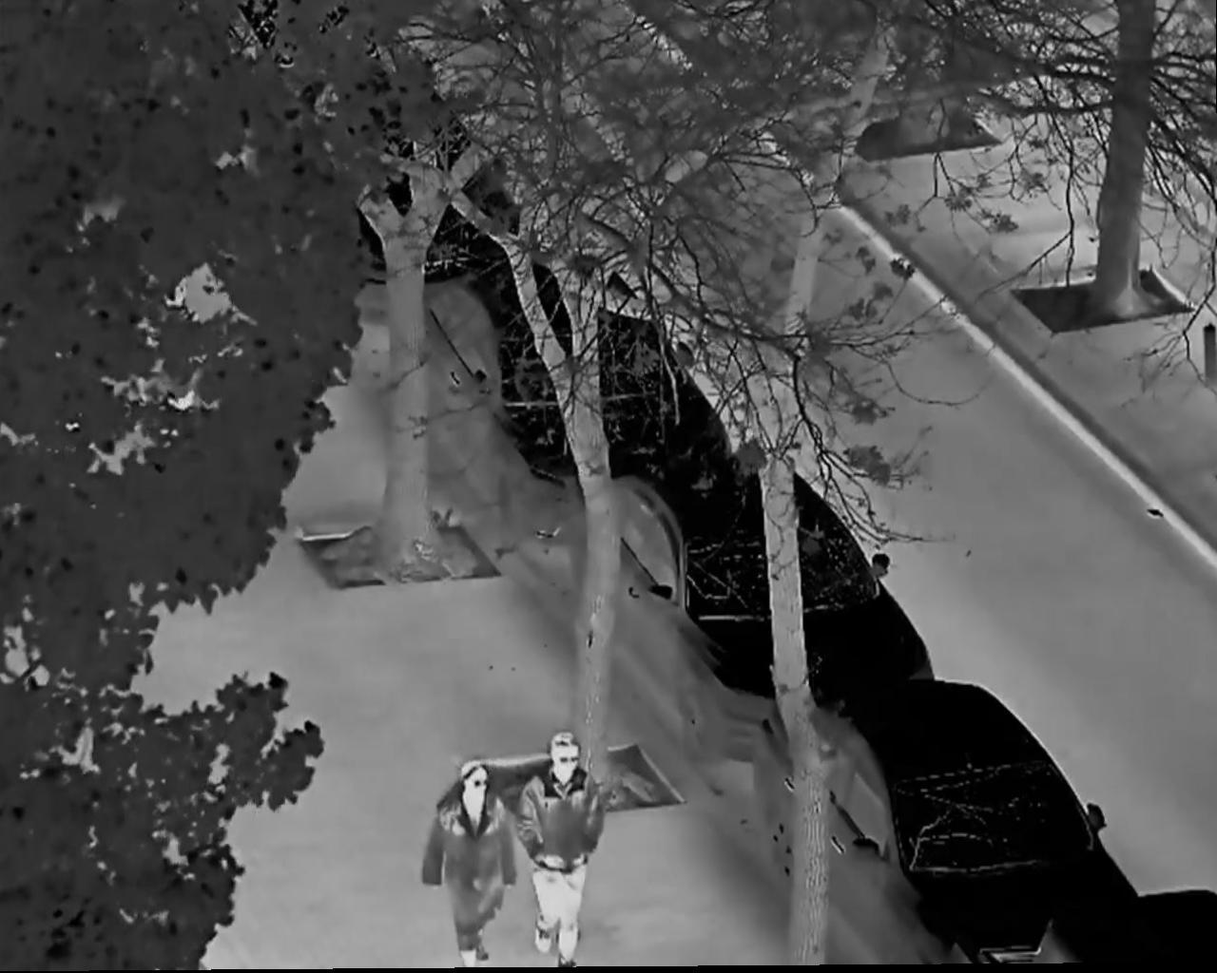person: (517, 735, 605, 969), (428, 757, 518, 970)
